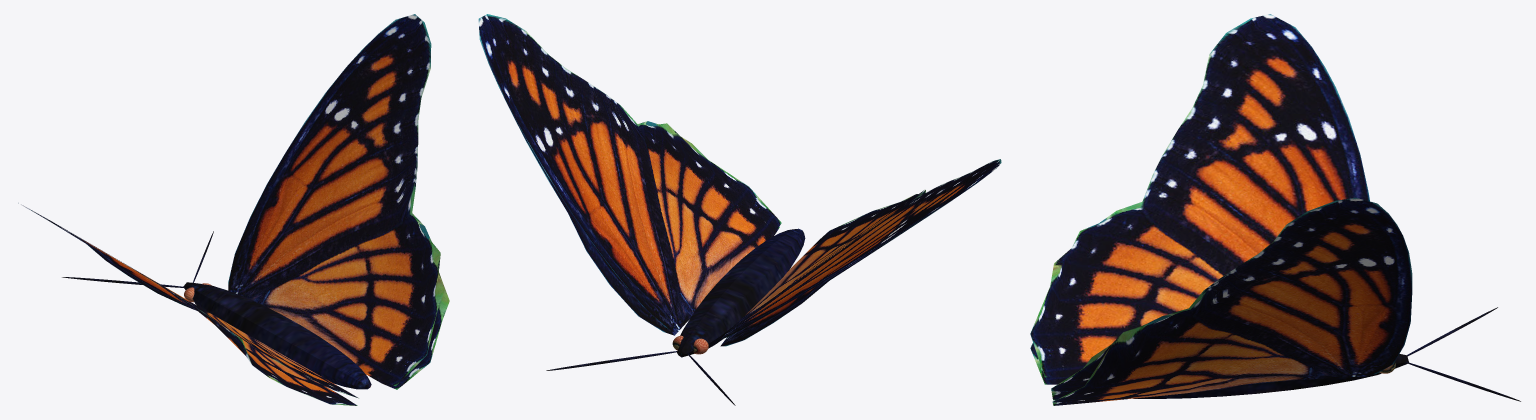
The model's file is butterfly.fbx.
3 views of the same model, side by side, from view 1: azimuth 30°, elevation 25°; view 2: azimuth 150°, elevation 25°; view 3: azimuth 270°, elevation 25° (orthographic). The views are drawn at different scales.
Parts seen in each view (by area): view 1: R_Wing, Body3, L_Wing; view 2: R_Wing, L_Wing, Body3; view 3: L_Wing, R_Wing, Body3.
Part boxes in pixels (x1,y1,x2,y2): R_Wing: (228, 14, 449, 389); Body3: (62, 231, 371, 389); L_Wing: (18, 203, 358, 405); R_Wing: (478, 14, 781, 335); L_Wing: (720, 159, 1001, 346); Body3: (546, 228, 805, 405); L_Wing: (1030, 14, 1369, 384); R_Wing: (1051, 197, 1412, 405); Body3: (1133, 307, 1520, 401).
Size of the model in its own units: 7.47 by 4.21 by 6.18.
Materials: 3 (3 with a texture image).
